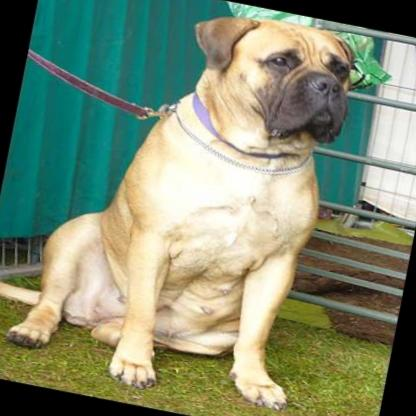bull_mastiff: (0, 0, 359, 413)
